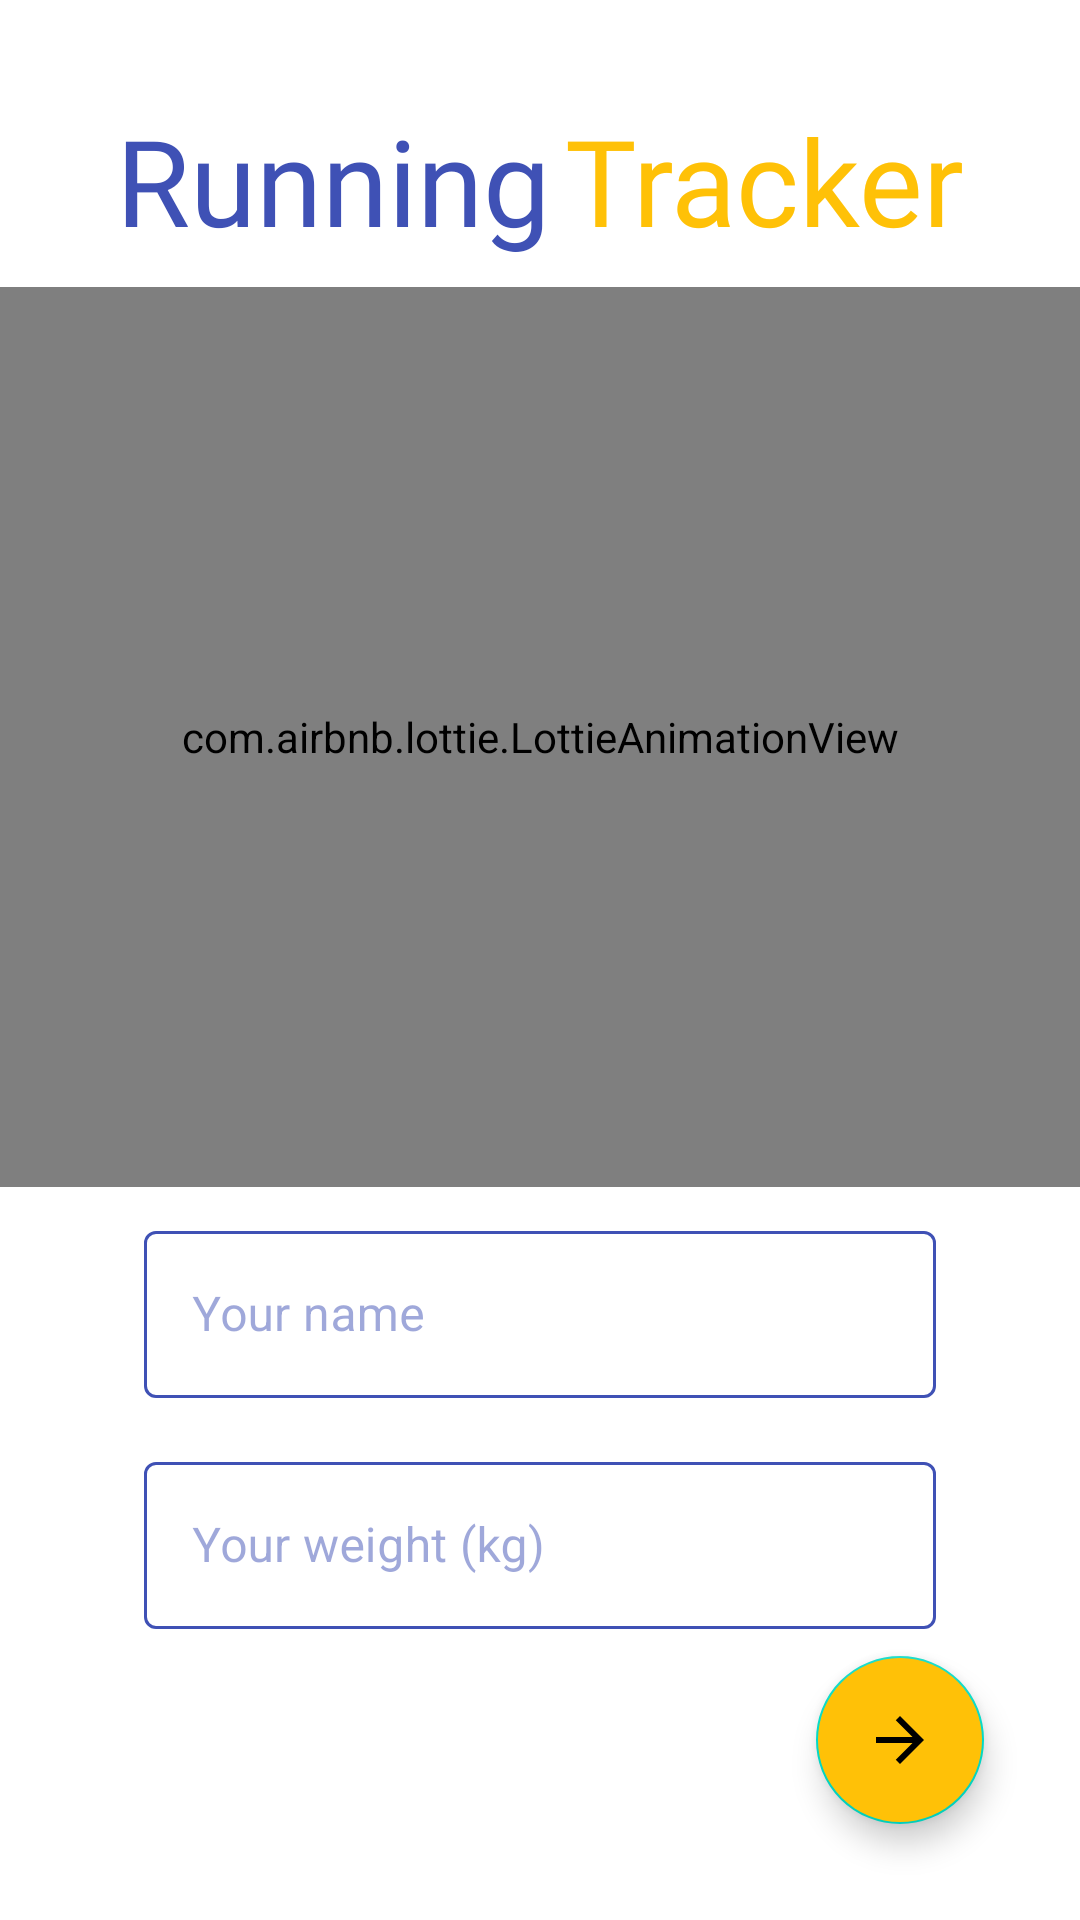

Icon click points for this 1080px×1920px phone screenshot, format (x,y):
arrow forward: (900,1740)
